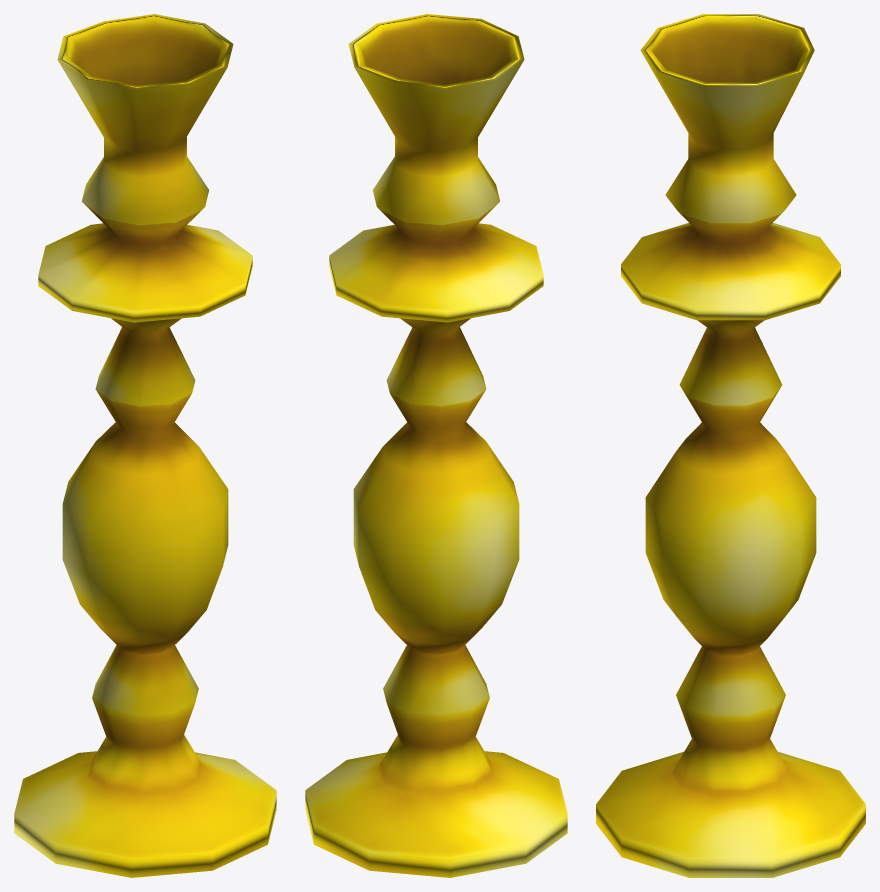
Rendered from candelabrum_02.fbx.
3 renders of one model, left to right at view 1: azimuth 30°, elevation 25°; view 2: azimuth 150°, elevation 25°; view 3: azimuth 270°, elevation 25°, orthographic.
Visible parts, largest first — view 1: candelabrum_02; view 2: candelabrum_02; view 3: candelabrum_02.
Part boxes in pixels (left/top/right/bottom): candelabrum_02: left=14, top=14, right=276, bottom=877; candelabrum_02: left=305, top=14, right=567, bottom=877; candelabrum_02: left=596, top=14, right=865, bottom=877.
Bounding box in the file's own units: 5.54 × 18.45 × 5.83.
